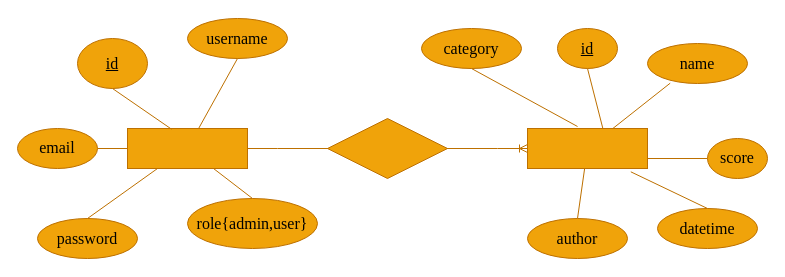
Some shapes in this 785 by 277 pixel diagram are drawn without their labels. Each missing label, with the box of its shape:
Profiles: (126, 128, 248, 168)
Recipes: (526, 128, 648, 168)
Upload: (326, 118, 448, 178)
